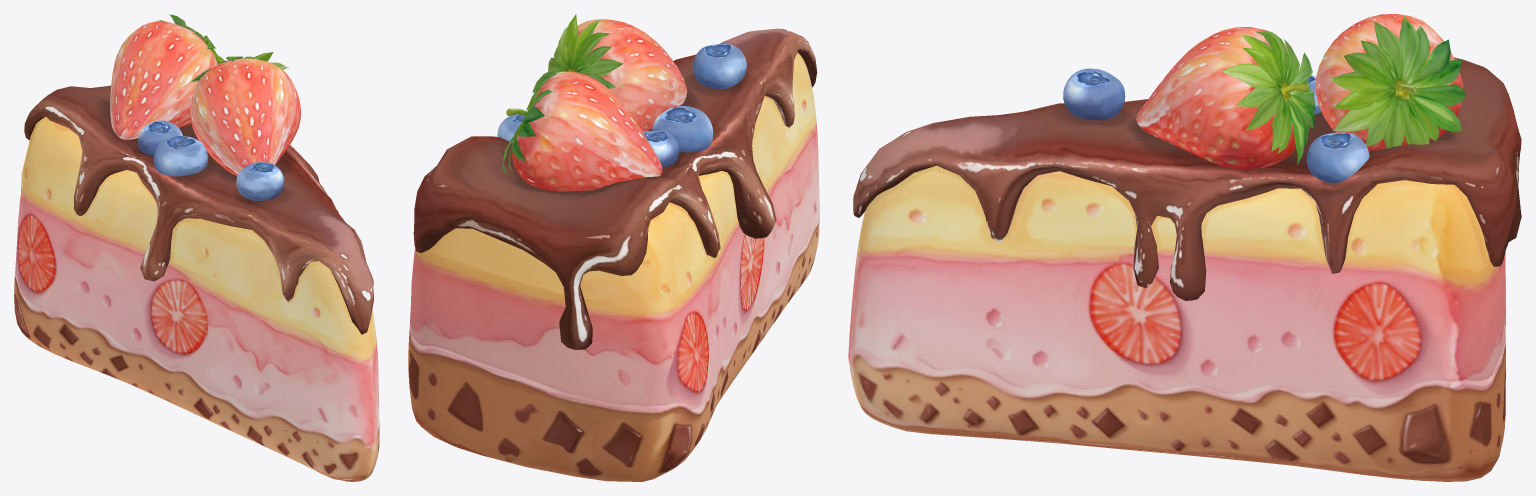
Rendered from cake.glb.
3 renders of one model, left to right at view 1: azimuth 30°, elevation 25°; view 2: azimuth 150°, elevation 25°; view 3: azimuth 270°, elevation 25°, orthographic. The views are drawn at different scales.
Parts seen in each view (by area): view 1: cake001_cake_0; view 2: cake001_cake_0; view 3: cake001_cake_0.
Boxes of the visible parts, x1=… form: cake001_cake_0: x1=14, y1=14, x2=379, y2=481; cake001_cake_0: x1=408, y1=14, x2=819, y2=481; cake001_cake_0: x1=848, y1=14, x2=1521, y2=481.
Bounding box in the file's own units: 2.73 × 3.44 × 5.01.
1 material, 1 textured.
